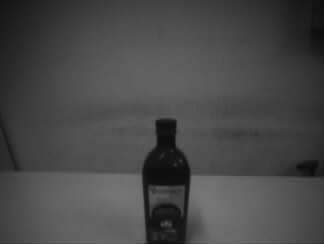Bottle: (142, 118, 191, 244)
